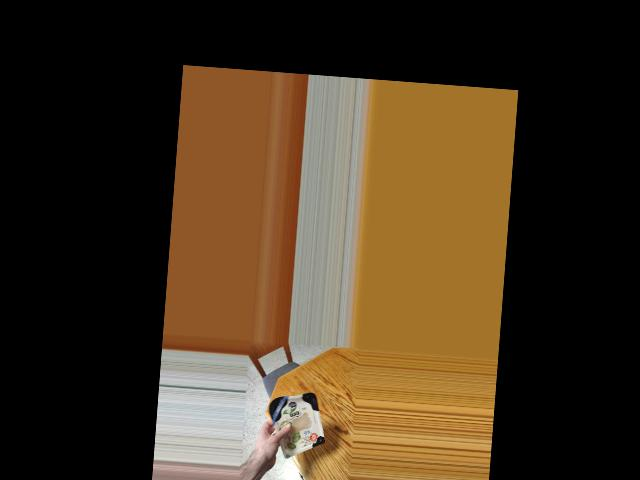cheese: (264, 388, 327, 450)
